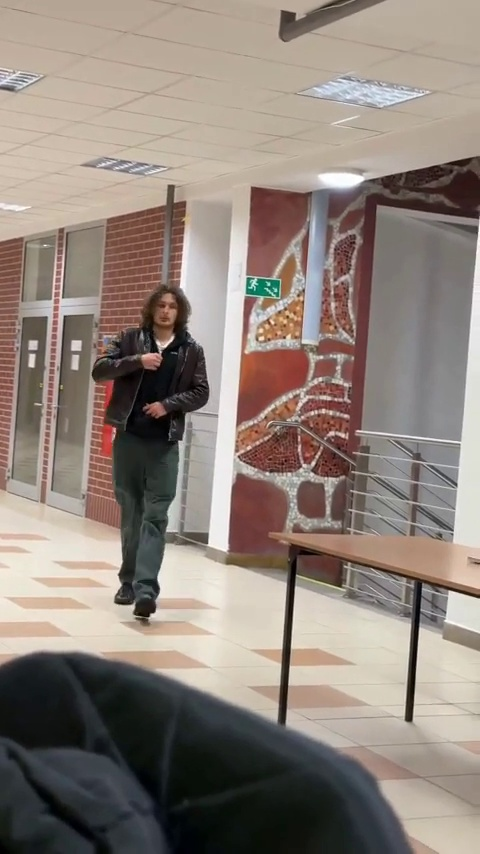no vest: (95, 282, 211, 625)
